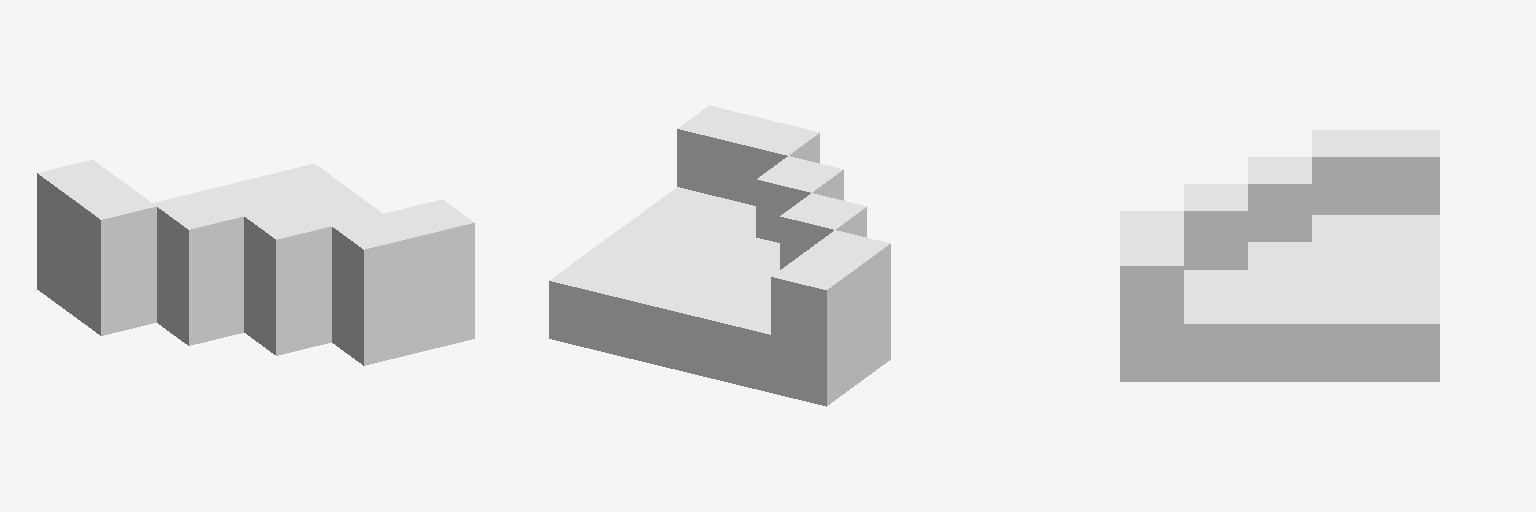
File: roof_curved_1.obj
3 renders of one model, left to right at view 1: azimuth 30°, elevation 25°; view 2: azimuth 150°, elevation 25°; view 3: azimuth 270°, elevation 25°, orthographic.
Visible parts, largest first — view 1: roof_curved_1; view 2: roof_curved_1; view 3: roof_curved_1.
Part boxes in pixels (x1,y1,x2,y2): roof_curved_1: (37,160,474,365); roof_curved_1: (549,105,890,406); roof_curved_1: (1120,130,1439,381).
Bounding box in the file's own units: 5 × 2 × 5.